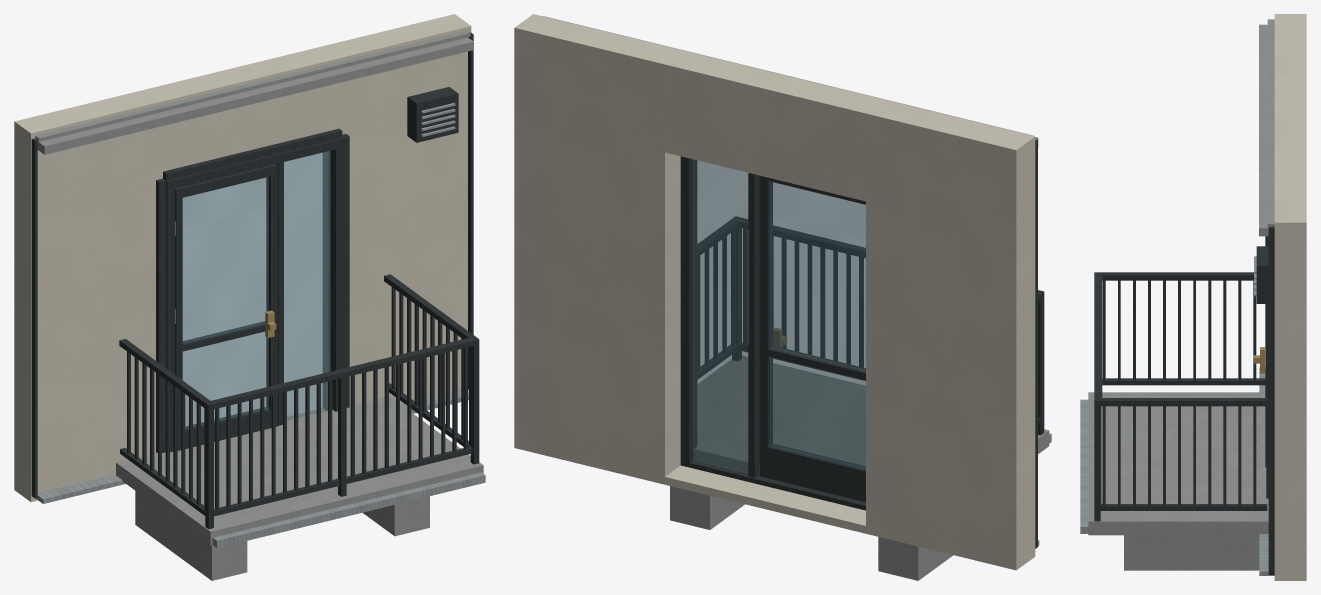
The model's file is PZ_FACADE_4m_Balcony_Door_With_Guardrail.glb.
3 views of the same model, side by side, from view 1: azimuth 30°, elevation 25°; view 2: azimuth 150°, elevation 25°; view 3: azimuth 270°, elevation 25° (orthographic). The views are drawn at different scales.
Parts seen in each view (by area): view 1: F02_B02_Wall_LeftPier, F02_B02_Wall_RightPier, F02_B02_BALCONY_DeckSlab, F02_B02_DoorLeaf_GLASS_BREAKABLE_Upper, F02_B02_Wall_Header, F02_B02_GLASS_BREAKABLE_FixedSidelight, F02_B02_BALCONY_FrontPickets_23PieceSet, F02_B02_FireStop_StoreyBand, F02_B02_DoorLeaf_GLASS_BREAKABLE_Lower, F02_B02_BALCONY_GuardSide_Left_PicketSet, F02_B02_BALCONY_CantileverBracket_1, F02_B02_BALCONY_GuardSide_Right_PicketSet (+28 smaller); view 2: F02_B02_Wall_LeftPier, F02_B02_Wall_RightPier, F02_B02_Wall_Header, F02_B02_GLASS_BREAKABLE_FixedSidelight, F02_B02_DoorLeaf_GLASS_BREAKABLE_Upper, F02_B02_BALCONY_DeckSlab, F02_B02_DoorLeaf_GLASS_BREAKABLE_Lower, F02_B02_DoorFrame_Jamb_R, F02_B02_Wall_SillSpandrel, F02_B02_BALCONY_FrontPickets_23PieceSet, F02_B02_DoorLeaf_BottomRail, F02_B02_DoorLeaf_Stile_Latch (+10 smaller); view 3: F02_B02_BALCONY_DeckSlab, F02_B02_Wall_RightPier, F02_B02_BALCONY_CantileverBracket_2, F02_B02_BALCONY_GuardSide_Right_PicketSet, F02_B02_BALCONY_GuardSide_Left_PicketSet, F02_B02_Wall_Header, F02_B02_Modular_Join_Right, F02_B02_Wall_LeftPier, F02_B02_FireStop_StoreyBand, F02_B02_FloorHorizontal_Reveal, F02_B02_BALCONY_GuardSide_Right_Top, F02_B02_BALCONY_GuardSide_Left_Top (+8 smaller).
Boxes of the visible parts, x1,y1,x2,y2 form: F02_B02_Wall_LeftPier: (14,89,162,501); F02_B02_Wall_RightPier: (323,14,471,410); F02_B02_BALCONY_DeckSlab: (116,396,483,545); F02_B02_DoorLeaf_GLASS_BREAKABLE_Upper: (182,177,268,343); F02_B02_Wall_Header: (147,46,339,171); F02_B02_GLASS_BREAKABLE_FixedSidelight: (284,150,330,420); F02_B02_BALCONY_FrontPickets_23PieceSet: (215,347,467,509); F02_B02_FireStop_StoreyBand: (37,37,473,154); F02_B02_DoorLeaf_GLASS_BREAKABLE_Lower: (182,331,268,428); F02_B02_BALCONY_GuardSide_Left_PicketSet: (127,351,205,509); F02_B02_BALCONY_CantileverBracket_1: (135,491,247,580); F02_B02_BALCONY_GuardSide_Right_PicketSet: (391,287,470,445); F02_B02_Wall_LeftPier: (866,100,1035,570); F02_B02_Wall_RightPier: (514,14,683,484); F02_B02_Wall_Header: (665,51,884,201); F02_B02_GLASS_BREAKABLE_FixedSidelight: (693,159,748,473); F02_B02_DoorLeaf_GLASS_BREAKABLE_Upper: (770,181,865,371); F02_B02_BALCONY_DeckSlab: (694,355,1049,475); F02_B02_DoorLeaf_GLASS_BREAKABLE_Lower: (770,357,865,469); F02_B02_DoorFrame_Jamb_R: (680,156,696,465); F02_B02_Wall_SillSpandrel: (665,465,865,533); F02_B02_BALCONY_FrontPickets_23PieceSet: (743,229,863,367); F02_B02_DoorLeaf_BottomRail: (759,444,865,502); F02_B02_DoorLeaf_Stile_Latch: (759,175,772,476); F02_B02_BALCONY_DeckSlab: (1088,392,1268,535); F02_B02_Wall_RightPier: (1274,160,1306,580); F02_B02_BALCONY_CantileverBracket_2: (1124,535,1259,570); F02_B02_BALCONY_GuardSide_Right_PicketSet: (1102,406,1256,505); F02_B02_BALCONY_GuardSide_Left_PicketSet: (1102,280,1256,380); F02_B02_Wall_Header: (1274,76,1306,159); F02_B02_Modular_Join_Right: (1268,226,1274,574); F02_B02_Wall_LeftPier: (1274,14,1306,76); F02_B02_FireStop_StoreyBand: (1259,24,1268,236); F02_B02_FloorHorizontal_Reveal: (1267,19,1274,227); F02_B02_BALCONY_GuardSide_Right_Top: (1095,398,1267,406); F02_B02_BALCONY_GuardSide_Left_Top: (1096,272,1253,280).
Size of the model in its own units: 4 by 3.61 by 1.84.
6 materials, 6 textured.
